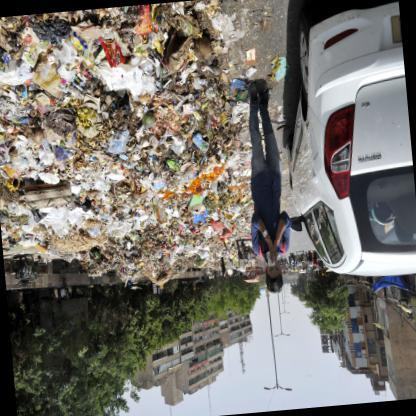Garbage: (61, 62, 243, 260), (77, 90, 238, 274), (70, 2, 212, 198), (13, 57, 168, 228), (0, 104, 142, 248), (74, 1, 210, 144), (0, 9, 115, 170), (212, 76, 247, 252)
